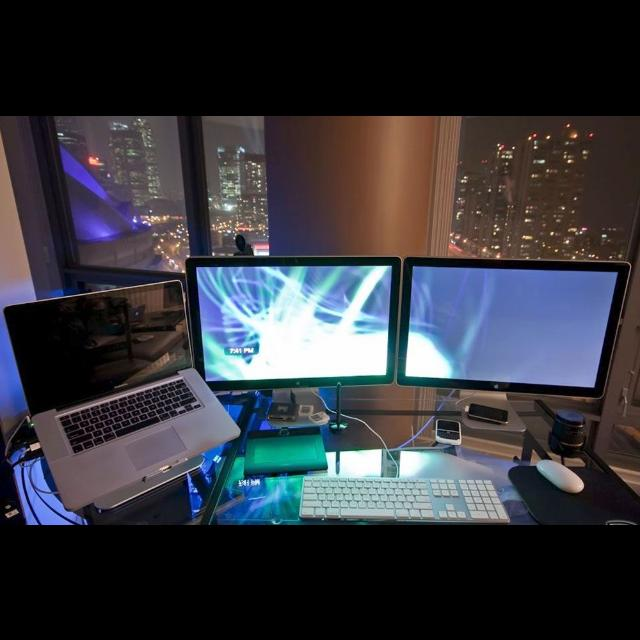Laptop: (6, 250, 634, 514)
